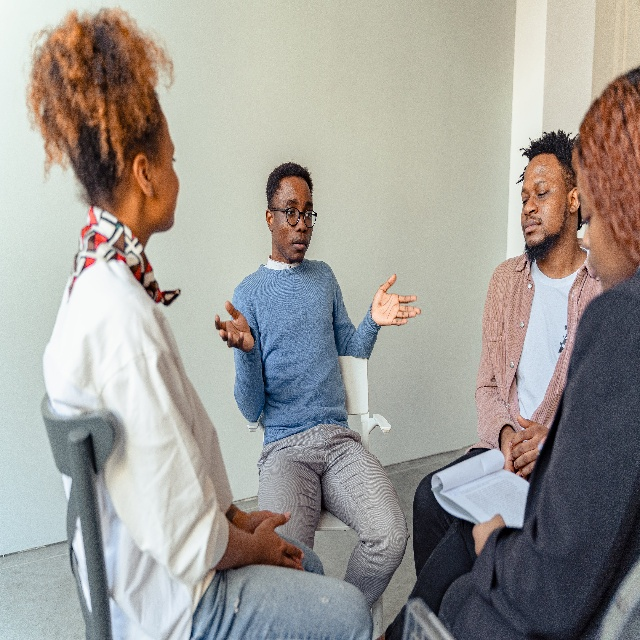Gafas: (270, 203, 318, 229)
Sin_guantes: (252, 510, 306, 572), (251, 508, 305, 567), (370, 270, 422, 328), (508, 412, 552, 477), (213, 298, 256, 354), (472, 511, 505, 560), (501, 430, 527, 482)
